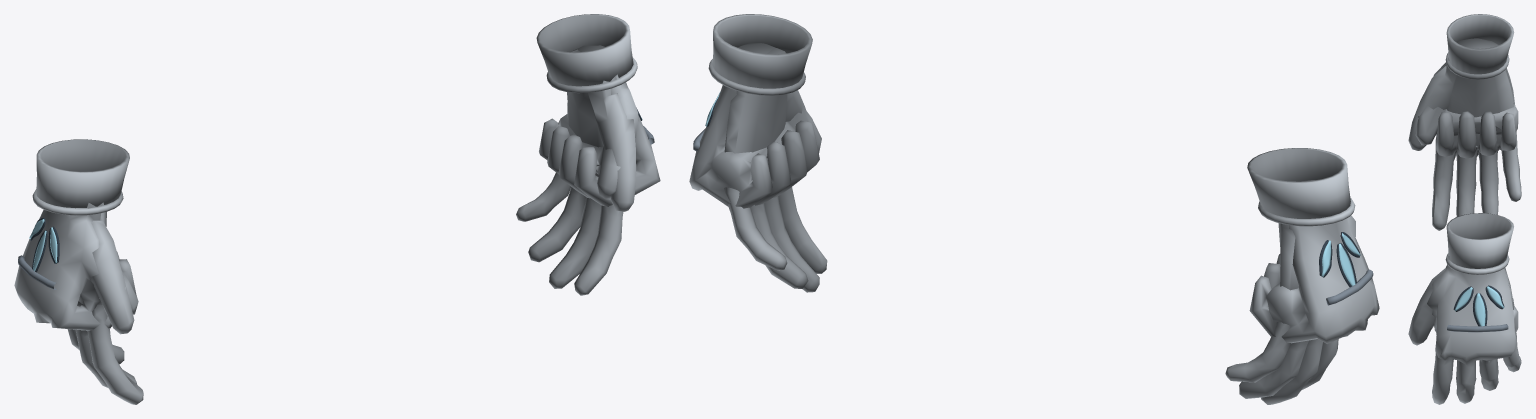
The model's file is g_mithril_f.glb.
3 views of the same model, side by side, from view 1: azimuth 30°, elevation 25°; view 2: azimuth 150°, elevation 25°; view 3: azimuth 270°, elevation 25° (orthographic). The views are drawn at different scales.
Visible parts, largest first — view 1: ArmL_HandOpen, ArmR_Hand, ArmL_Gauntlet, ArmR_Gauntlet, ArmL_Hand, ArmR_HandOpen; view 2: ArmR_Hand, ArmL_HandOpen, ArmL_Hand, ArmR_Gauntlet, ArmL_Gauntlet, ArmR_HandOpen; view 3: ArmR_HandOpen, ArmL_Hand, ArmR_Hand, ArmL_Gauntlet, ArmL_HandOpen, ArmR_Gauntlet.
Boxes of the visible parts, bbox=[...] form: ArmL_HandOpen: bbox=[516, 49, 636, 295]; ArmR_Hand: bbox=[14, 203, 138, 330]; ArmL_Gauntlet: bbox=[536, 14, 637, 93]; ArmR_Gauntlet: bbox=[32, 139, 129, 215]; ArmL_Hand: bbox=[539, 45, 660, 206]; ArmR_HandOpen: bbox=[67, 202, 143, 404]; ArmR_Hand: bbox=[1249, 215, 1379, 343]; ArmL_HandOpen: bbox=[724, 47, 827, 292]; ArmL_Hand: bbox=[689, 43, 821, 208]; ArmR_Gauntlet: bbox=[1247, 148, 1355, 226]; ArmL_Gauntlet: bbox=[708, 14, 812, 95]; ArmR_HandOpen: bbox=[1225, 180, 1338, 404]; ArmR_HandOpen: bbox=[1408, 59, 1521, 230]; ArmL_Hand: bbox=[1427, 256, 1518, 364]; ArmR_Hand: bbox=[1415, 38, 1518, 158]; ArmL_Gauntlet: bbox=[1445, 213, 1513, 274]; ArmL_HandOpen: bbox=[1408, 256, 1521, 404]; ArmR_Gauntlet: bbox=[1445, 14, 1514, 79].
Bounding box in the file's own units: 0.5902 × 0.222 × 0.1184.
